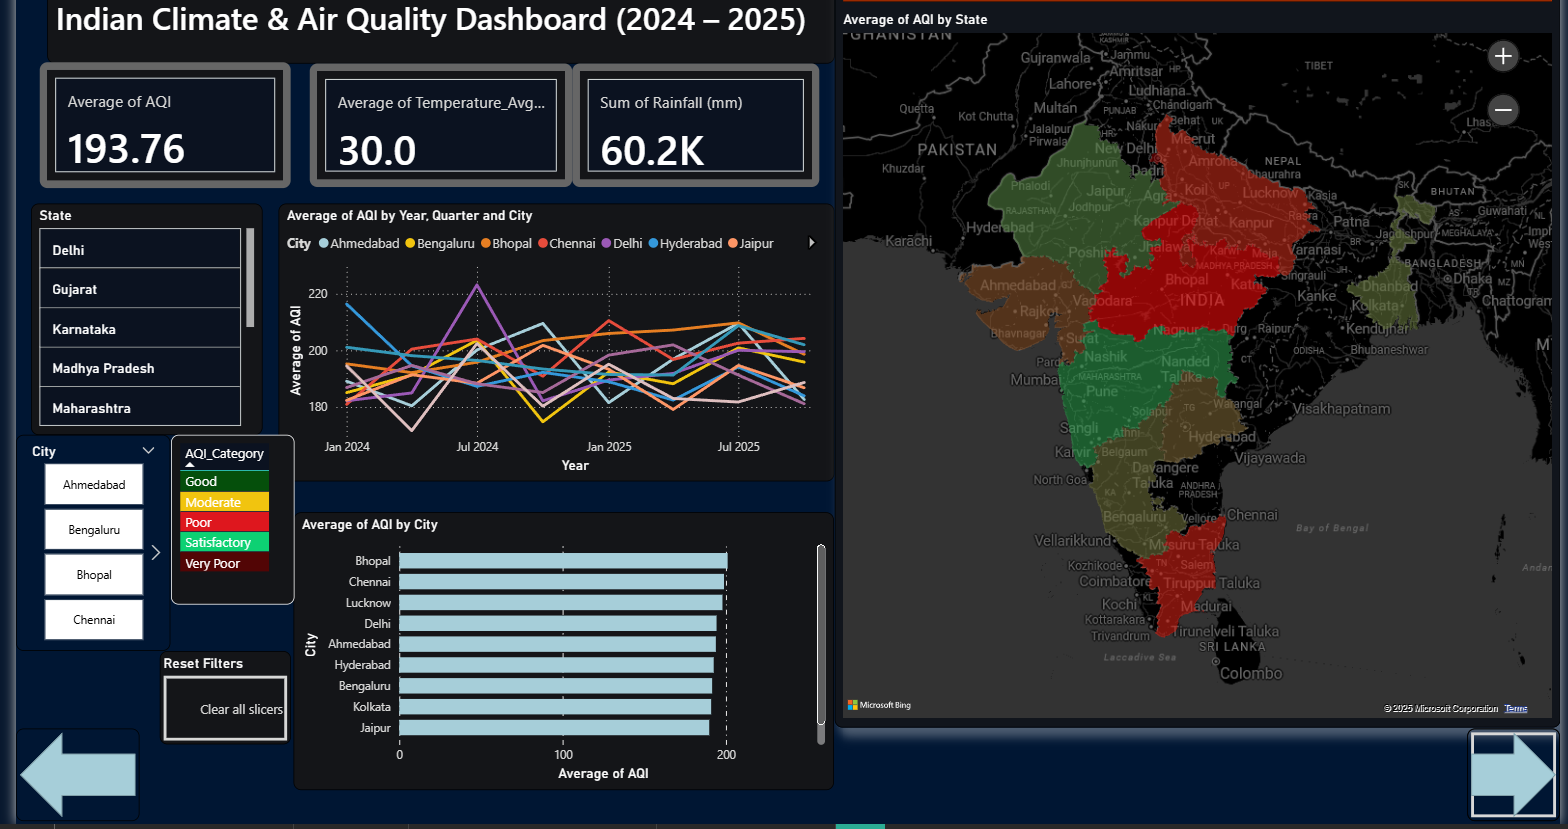

Layout of this report page (visuals, bound fields, positions):
{"tool":"powerbi","page":{"name":"Overview","canvas":[1600,900],"ordinal":1},"visuals":[{"type":"textbox","box":[32,16,816,96],"z":0},{"type":"cardVisual","fields":{"Data":["Avg(Indian_Climate_Dataset_2024_2025.AQI)"]},"box":[24,110,260,130],"z":1000},{"type":"cardVisual","fields":{"Data":["Sum(Indian_Climate_Dataset_2024_2025.Rainfall (mm))"]},"box":[576,112,256,128],"z":2000},{"type":"lineChart","fields":{"Category":["Indian_Climate_Dataset_2024_2025.Date.Variation.Date Hierarchy.Year","Indian_Climate_Dataset_2024_2025.Date.Variation.Date Hierarchy.Quarter"],"Series":["Indian_Climate_Dataset_2024_2025.City"],"Y":["Avg(Indian_Climate_Dataset_2024_2025.AQI)"]},"box":[272,256,576,288],"z":3000},{"type":"filledMap","fields":{"Category":["Indian_Climate_Dataset_2024_2025.State"]},"box":[848,16,752,784],"z":4000},{"type":"clusteredBarChart","fields":{"Category":["Indian_Climate_Dataset_2024_2025.City"],"Y":["Avg(Indian_Climate_Dataset_2024_2025.AQI)"]},"box":[288,576,560,288],"z":5000},{"type":"actionButton","title":"Reset Filters","box":[153.3,553.7,135.3,158.7],"z":6000},{"type":"advancedSlicerVisual","fields":{"Values":["Indian_Climate_Dataset_2024_2025.State"]},"box":[14.8,257.1,257.1,286.8],"z":7000},{"type":"tableEx","fields":{"Values":["Indian_Climate_Dataset_2024_2025.AQI_Category"]},"box":[9,553.7,135.3,174.9],"z":8000},{"type":"actionButton","box":[1504,800,96,96],"z":10000},{"type":"shape","box":[1504,800,96,96],"z":11000},{"type":"cardVisual","fields":{"Data":["Avg(Indian_Climate_Dataset_2024_2025.Temperature_Avg (°C))"]},"box":[304,112,272,128],"z":12000},{"type":"shape","box":[0,800,128,96],"z":13000}]}

Visuals, with their boxes on the page's 1600x900 design canvas (x1, y1, x2, y2). These are canvas units, not pixel positions in the 1568x829 screenshot, which may show the page scaled, cropped or inside an application window:
textbox: bbox=[32, 16, 848, 112]
cardVisual - Avg(Indian_Climate_Dataset_2024_2025.AQI): bbox=[24, 110, 284, 240]
cardVisual - Sum(Indian_Climate_Dataset_2024_2025.Rainfall (mm)): bbox=[576, 112, 832, 240]
lineChart - Indian_Climate_Dataset_2024_2025.Date.Variation.Date Hierarchy.Year x Indian_Climate_Dataset_2024_2025.Date.Variation.Date Hierarchy.Quarter: bbox=[272, 256, 848, 544]
filledMap - Indian_Climate_Dataset_2024_2025.State: bbox=[848, 16, 1600, 800]
clusteredBarChart - Indian_Climate_Dataset_2024_2025.City x Avg(Indian_Climate_Dataset_2024_2025.AQI): bbox=[288, 576, 848, 864]
"Reset Filters" actionButton: bbox=[153, 554, 289, 712]
advancedSlicerVisual - Indian_Climate_Dataset_2024_2025.State: bbox=[15, 257, 272, 544]
tableEx - Indian_Climate_Dataset_2024_2025.AQI_Category: bbox=[9, 554, 144, 729]
actionButton: bbox=[1504, 800, 1600, 896]
shape: bbox=[1504, 800, 1600, 896]
cardVisual - Avg(Indian_Climate_Dataset_2024_2025.Temperature_Avg (°C)): bbox=[304, 112, 576, 240]
shape: bbox=[0, 800, 128, 896]
